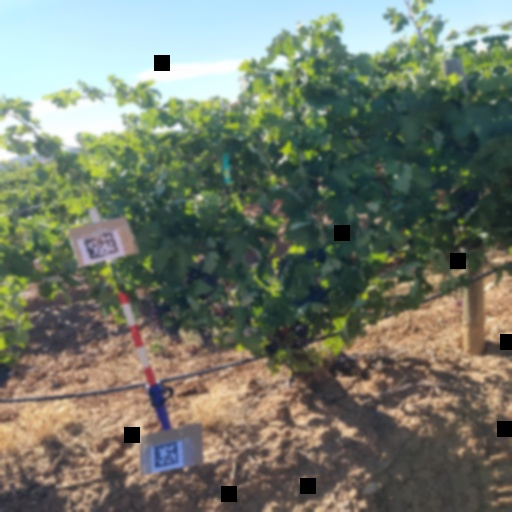QR: (82, 231, 121, 261), (151, 441, 183, 470)
